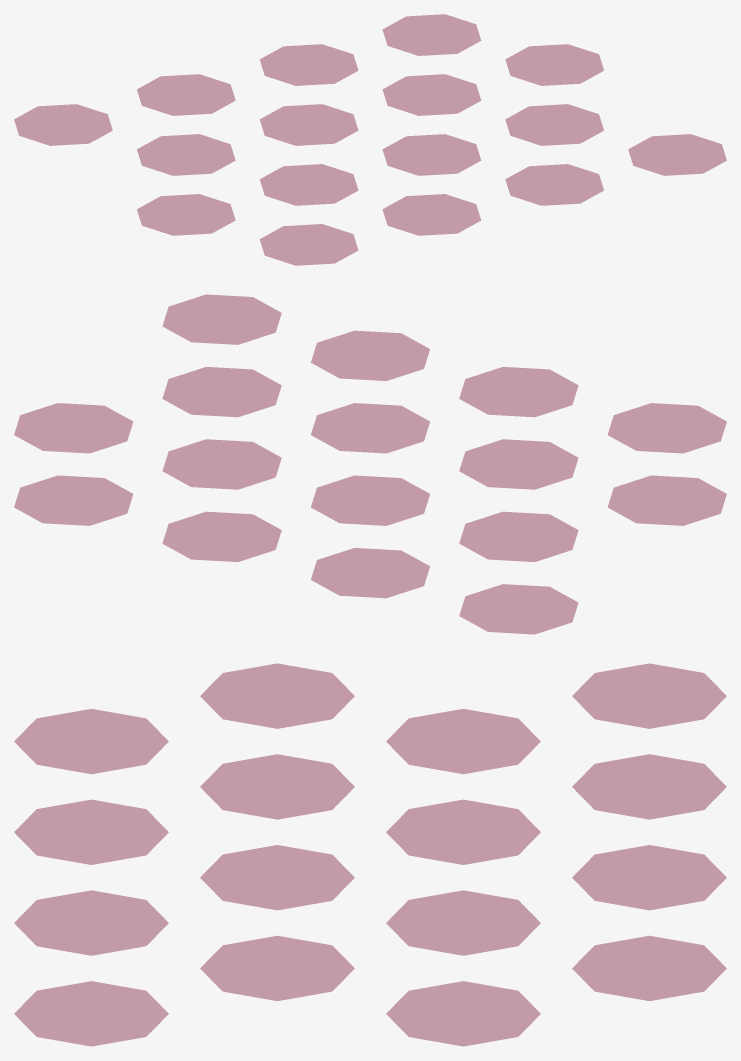
Rendered from myocyteTest.glb.
The picture shows the model from 3 angles, top to bottom: view 1: azimuth 30°, elevation 25°; view 2: azimuth 150°, elevation 25°; view 3: azimuth 270°, elevation 25°; orthographic projection. The views are drawn at different scales.
Visible parts, largest first — view 1: Circle.008, Circle.011, Circle.004, Circle.005, Circle.007, Circle.010, Circle.013, Circle.002, Circle.003, Circle.012, Circle, Circle.001 (+4 smaller); view 2: Circle.004, Circle.011, Circle, Circle.015, Circle.003, Circle.007, Circle.008, Circle.012, Circle.014, Circle.001, Circle.005, Circle.010 (+4 smaller); view 3: Circle.006, Circle.007, Circle.008, Circle.009, Circle.002, Circle.003, Circle.012, Circle.013, Circle, Circle.001, Circle.004, Circle.005 (+4 smaller).
Part boxes in pixels (x1=…): Circle.008: x1=382, y1=134, x2=481, y2=175; Circle.011: x1=382, y1=74, x2=481, y2=115; Circle.004: x1=259, y1=164, x2=358, y2=205; Circle.005: x1=137, y1=74, x2=235, y2=115; Circle.007: x1=259, y1=104, x2=358, y2=145; Circle.010: x1=505, y1=164, x2=603, y2=205; Circle.013: x1=382, y1=14, x2=481, y2=55; Circle.002: x1=259, y1=224, x2=358, y2=265; Circle.003: x1=137, y1=134, x2=235, y2=175; Circle.012: x1=505, y1=104, x2=603, y2=145; Circle: x1=137, y1=194, x2=235, y2=235; Circle.001: x1=14, y1=104, x2=112, y2=145; Circle.004: x1=459, y1=439, x2=578, y2=489; Circle.011: x1=162, y1=439, x2=281, y2=489; Circle: x1=607, y1=475, x2=726, y2=525; Circle.015: x1=14, y1=403, x2=133, y2=453; Circle.003: x1=459, y1=511, x2=578, y2=561; Circle.007: x1=311, y1=475, x2=429, y2=525; Circle.008: x1=311, y1=403, x2=429, y2=453; Circle.012: x1=162, y1=367, x2=281, y2=417; Circle.014: x1=162, y1=294, x2=281, y2=344; Circle.001: x1=459, y1=584, x2=578, y2=634; Circle.005: x1=311, y1=548, x2=429, y2=598; Circle.010: x1=311, y1=330, x2=429, y2=380; Circle.006: x1=14, y1=799, x2=168, y2=864; Circle.007: x1=386, y1=799, x2=540, y2=864; Circle.008: x1=200, y1=845, x2=354, y2=910; Circle.009: x1=572, y1=845, x2=726, y2=910; Circle.002: x1=14, y1=709, x2=168, y2=774; Circle.003: x1=386, y1=709, x2=540, y2=774; Circle.012: x1=200, y1=935, x2=354, y2=1000; Circle.013: x1=572, y1=935, x2=726, y2=1000; Circle: x1=200, y1=663, x2=354, y2=728; Circle.001: x1=572, y1=663, x2=726, y2=728; Circle.004: x1=200, y1=754, x2=354, y2=819; Circle.005: x1=572, y1=754, x2=726, y2=819.
Size of the model in its own units: 117 by 0 by 92.
